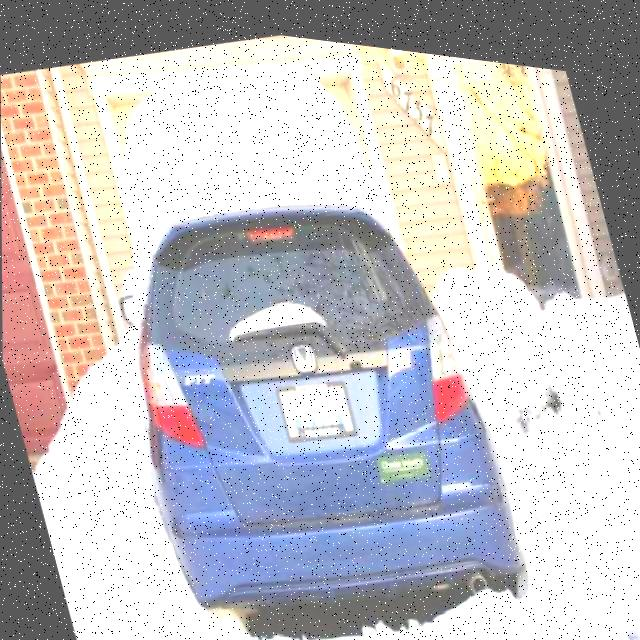license_plate: (274, 360, 359, 443)
